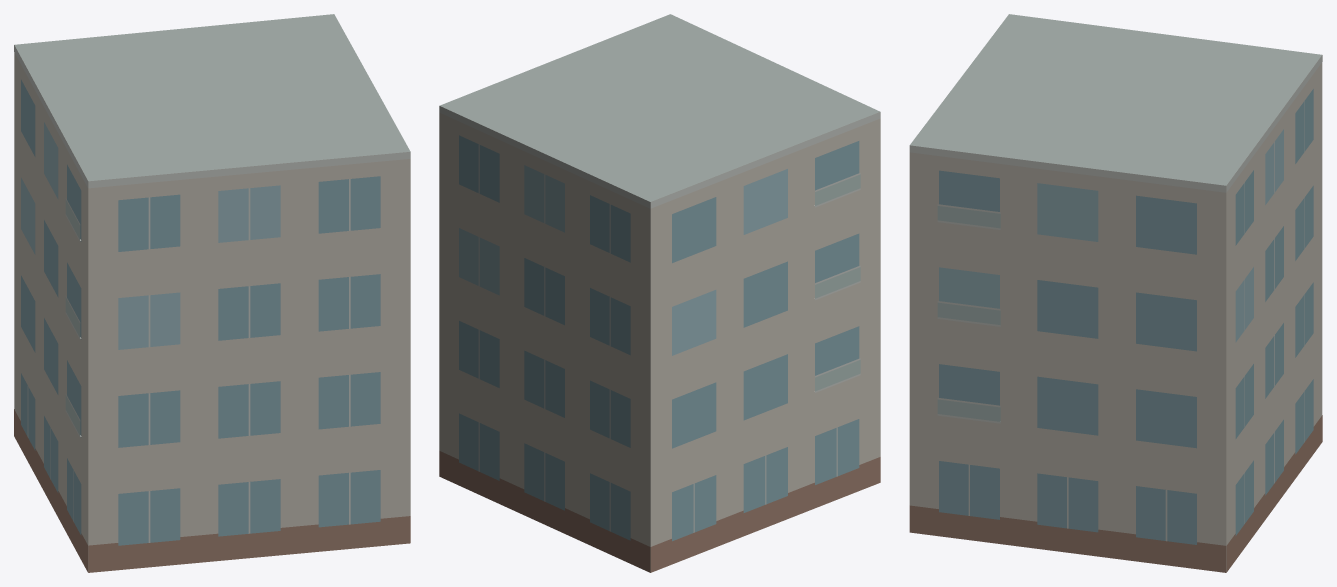
Rendered from survey-upis-32535670.glb.
3 views of the same model, side by side, from view 1: azimuth 30°, elevation 25°; view 2: azimuth 150°, elevation 25°; view 3: azimuth 270°, elevation 25° (orthographic). The views are drawn at different scales.
Visible parts, largest first — view 1: survey-upis-32535670.tmp; view 2: survey-upis-32535670.tmp; view 3: survey-upis-32535670.tmp.
Boxes of the visible parts, x1,y1,x2,y2 form: survey-upis-32535670.tmp: [14, 14, 410, 572]; survey-upis-32535670.tmp: [439, 14, 880, 572]; survey-upis-32535670.tmp: [909, 14, 1322, 572].
Size of the model in its own units: 12.85 by 13.5 by 13.06.
